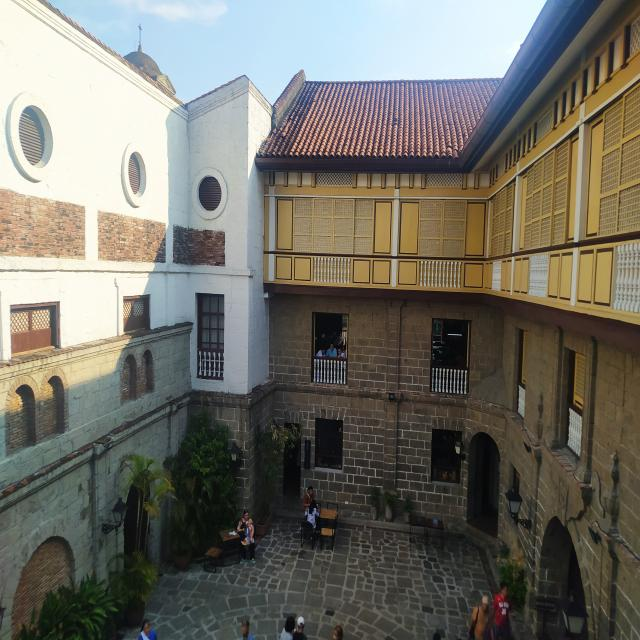Casa Manila: (252, 0, 640, 640)
